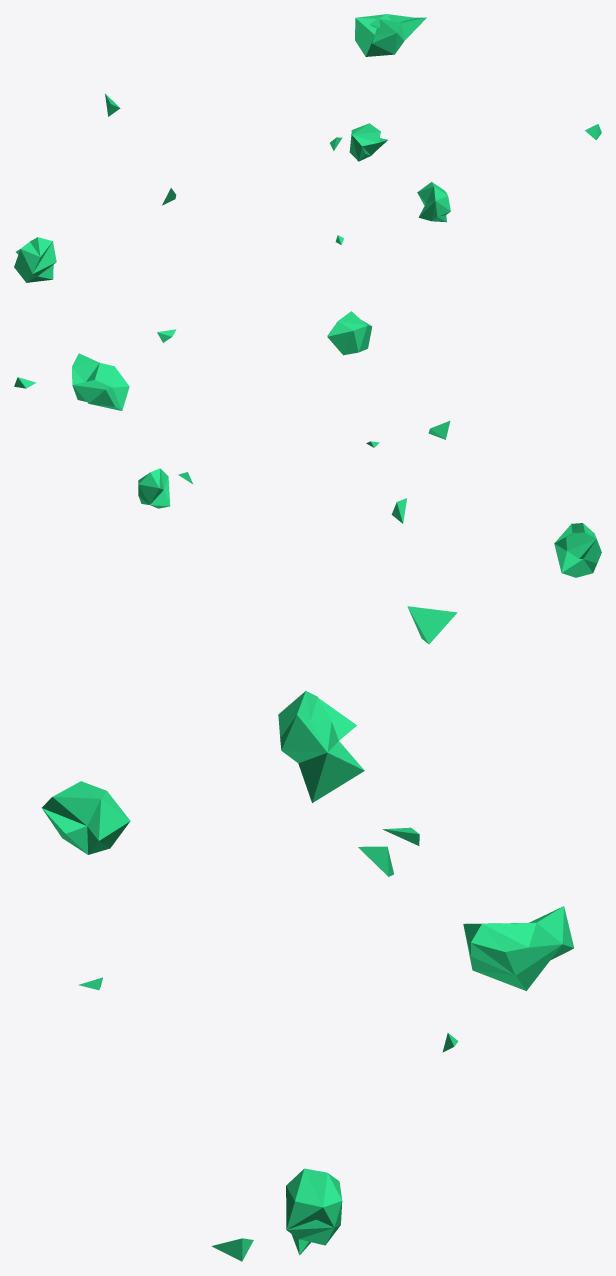
Rendered from latajace_krysztaly.fbx.
3 views of the same model, one above another, from view 1: azimuth 30°, elevation 25°; view 2: azimuth 150°, elevation 25°; view 3: azimuth 270°, elevation 25° (orthographic). The views are drawn at different scales.
Parts seen in each view (by area): view 1: fragmenty_krysztalu.008, fragmenty_krysztalu.006, fragmenty_krysztalu.009, fragmenty_krysztalu.007; view 2: fragmenty_krysztalu.008, fragmenty_krysztalu.006, fragmenty_krysztalu.007, fragmenty_krysztalu.009; view 3: fragmenty_krysztalu.008, fragmenty_krysztalu.006, fragmenty_krysztalu.007, fragmenty_krysztalu.009, fragmenty_krysztalu.004.
Boxes of the visible parts, x1,y1,x2,y2 form: fragmenty_krysztalu.008: (355, 14, 426, 56); fragmenty_krysztalu.006: (14, 237, 56, 282); fragmenty_krysztalu.009: (417, 182, 450, 222); fragmenty_krysztalu.007: (349, 123, 387, 161); fragmenty_krysztalu.008: (72, 353, 129, 410); fragmenty_krysztalu.006: (554, 523, 601, 577); fragmenty_krysztalu.007: (327, 311, 372, 355); fragmenty_krysztalu.009: (138, 468, 170, 508); fragmenty_krysztalu.008: (463, 906, 573, 990); fragmenty_krysztalu.006: (278, 691, 364, 802); fragmenty_krysztalu.007: (42, 781, 130, 854); fragmenty_krysztalu.009: (286, 1168, 342, 1255); fragmenty_krysztalu.004: (407, 606, 457, 644).
Bounding box in the file's own units: 1085 × 352 × 442.
